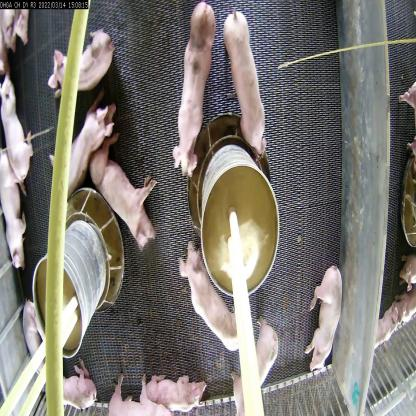Pig: (93, 100, 165, 258), (173, 232, 248, 359), (221, 6, 276, 164), (170, 0, 217, 179), (39, 101, 117, 202), (304, 256, 347, 393), (226, 312, 281, 416), (48, 25, 118, 98), (134, 354, 209, 416), (0, 66, 38, 186), (37, 351, 98, 415), (97, 367, 175, 415), (0, 146, 28, 278), (18, 292, 49, 365), (375, 300, 398, 352), (395, 284, 415, 335), (396, 253, 416, 289)
